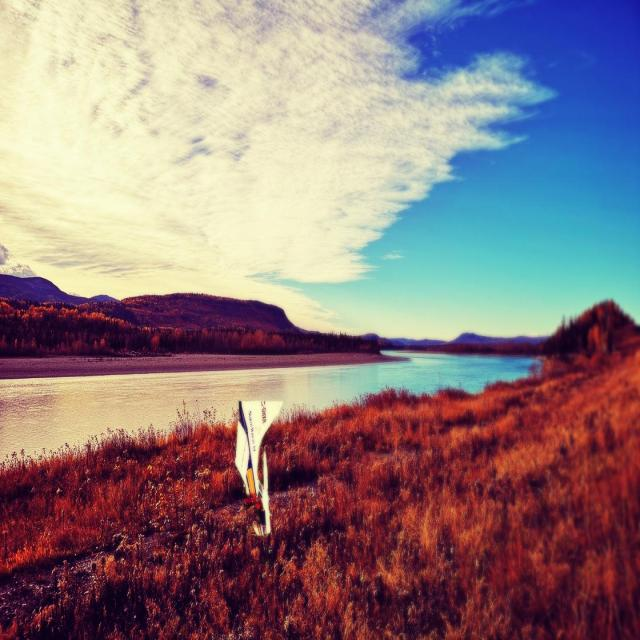airplane: (234, 399, 284, 536)
